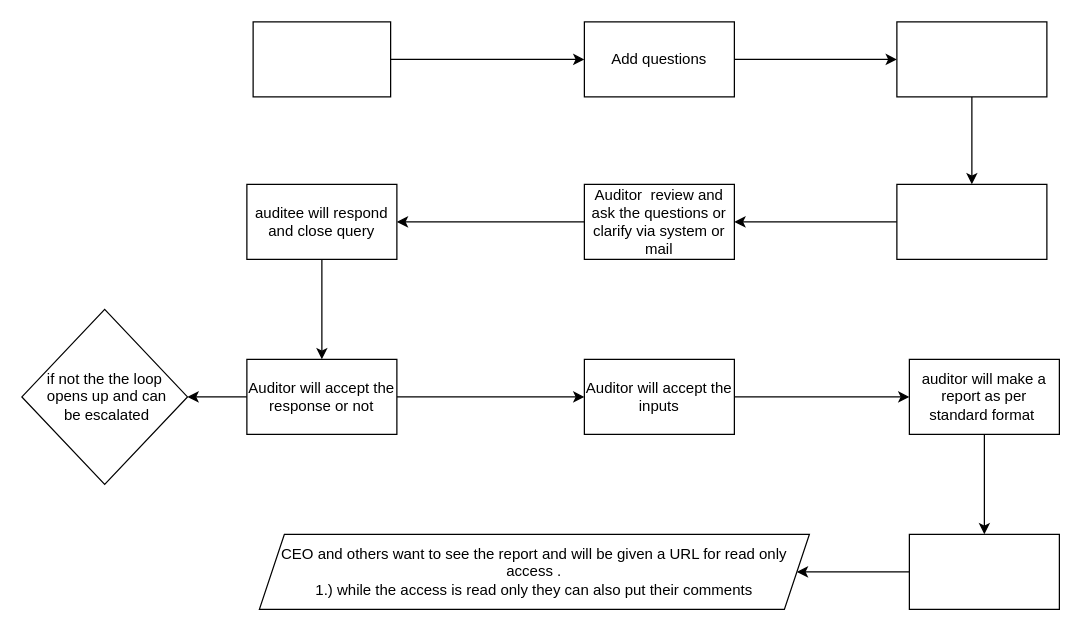
Some shapes in this 1081 by 631 pixel diagram are drawn without their labels. Each missing label, with the box of its shape:
Add question set: (252, 21, 391, 97)
answer and document submit by auditee: (896, 183, 1047, 259)
Assigne to auditee: (896, 21, 1047, 97)
report will be sent to auditee team and the managers: (908, 533, 1059, 609)
